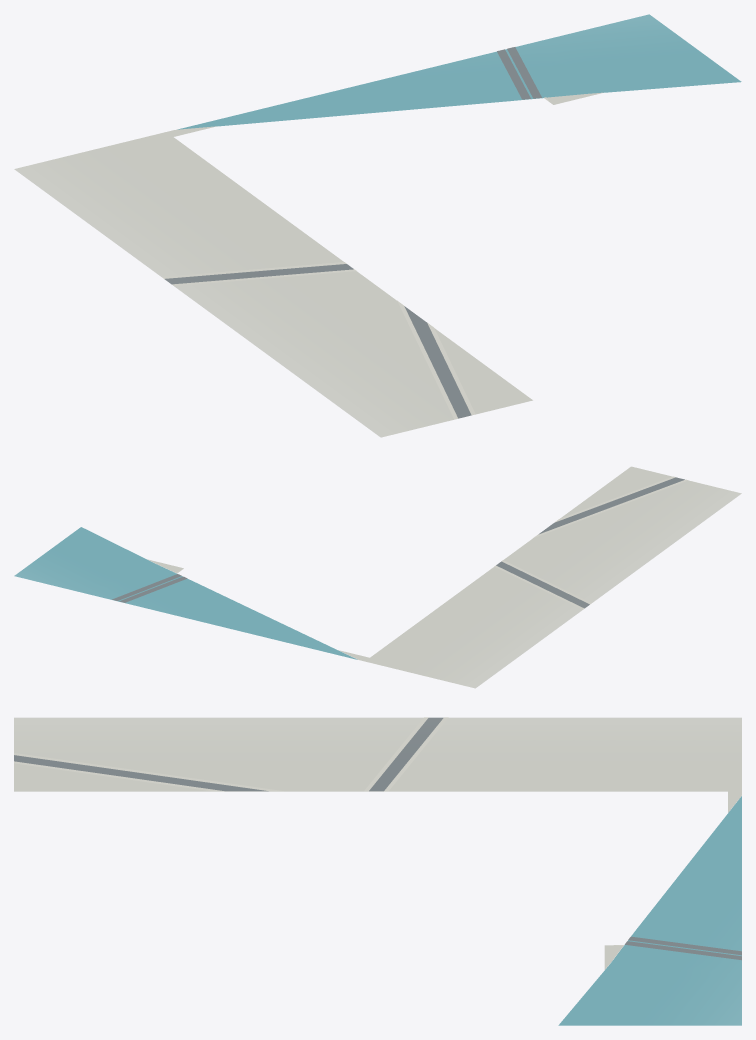
The picture shows the model from 3 angles, top to bottom: view 1: azimuth 30°, elevation 25°; view 2: azimuth 150°, elevation 25°; view 3: azimuth 270°, elevation 25°; orthographic projection. The views are drawn at different scales.
Visible parts, largest first — view 1: city; view 2: city; view 3: city.
Boxes of the visible parts, x1=… form: city: x1=14, y1=14, x2=741, y2=437; city: x1=14, y1=466, x2=741, y2=688; city: x1=14, y1=717, x2=741, y2=1025.
Size of the model in its own units: 500 by 0.4 by 500.
